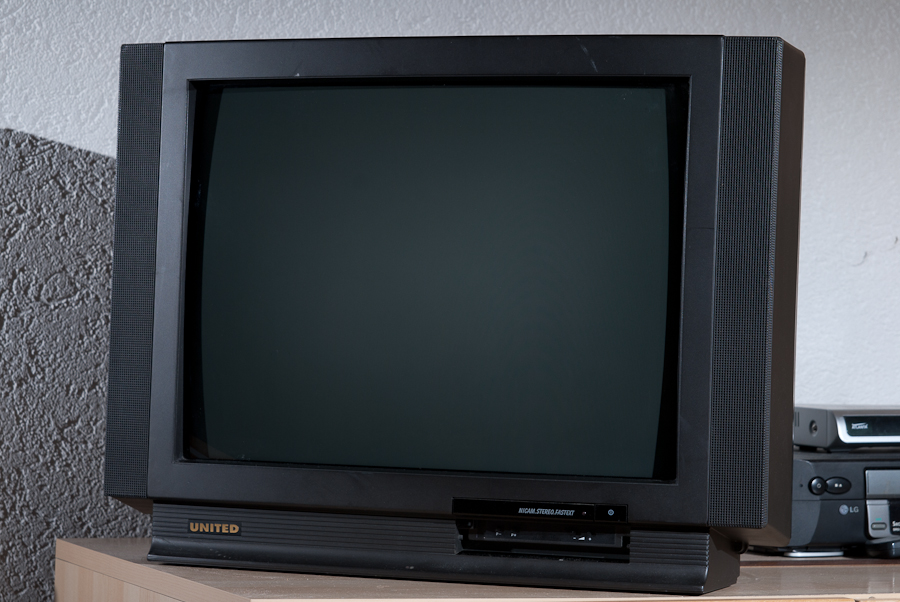tv monitor: (108, 37, 772, 585)
